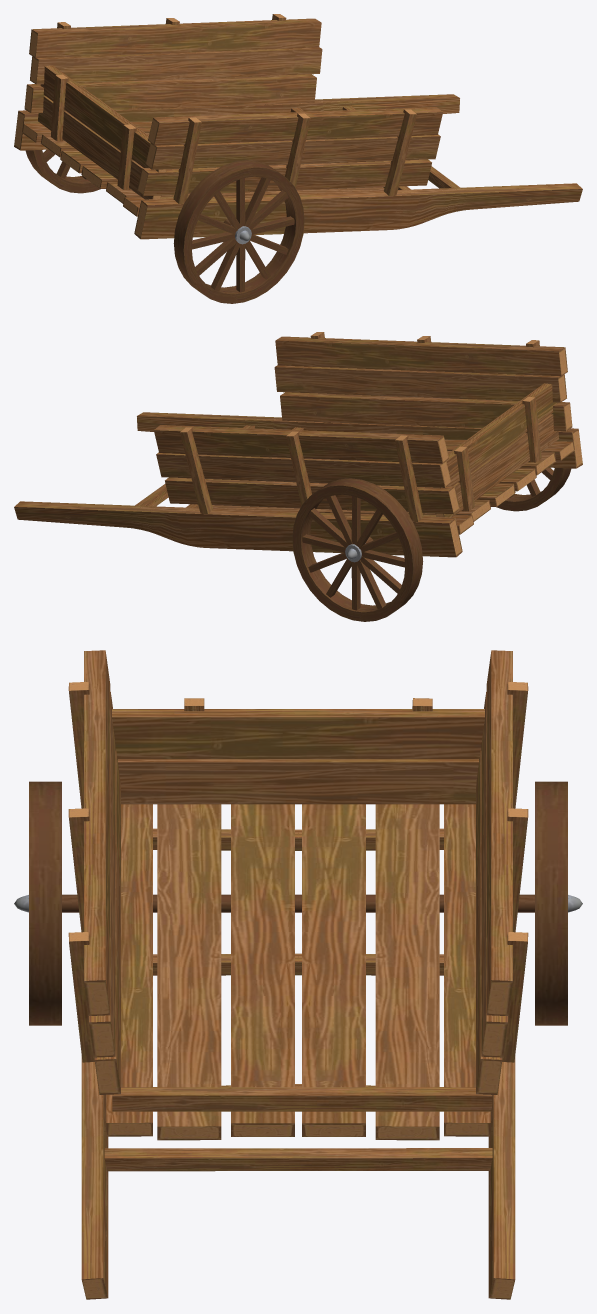
File: cart.glb
The picture shows the model from 3 angles, top to bottom: view 1: azimuth 30°, elevation 25°; view 2: azimuth 150°, elevation 25°; view 3: azimuth 270°, elevation 25°; orthographic projection. The views are drawn at different scales.
Visible parts, largest first — view 1: Prop_Wagon; view 2: Prop_Wagon; view 3: Prop_Wagon.
Boxes of the visible parts, x1,y1,x2,y2 form: Prop_Wagon: (14,14,582,303); Prop_Wagon: (14,332,582,621); Prop_Wagon: (14,650,582,1299).
Size of the model in its own units: 3 by 1.2 by 2.
1 material, 1 textured.
